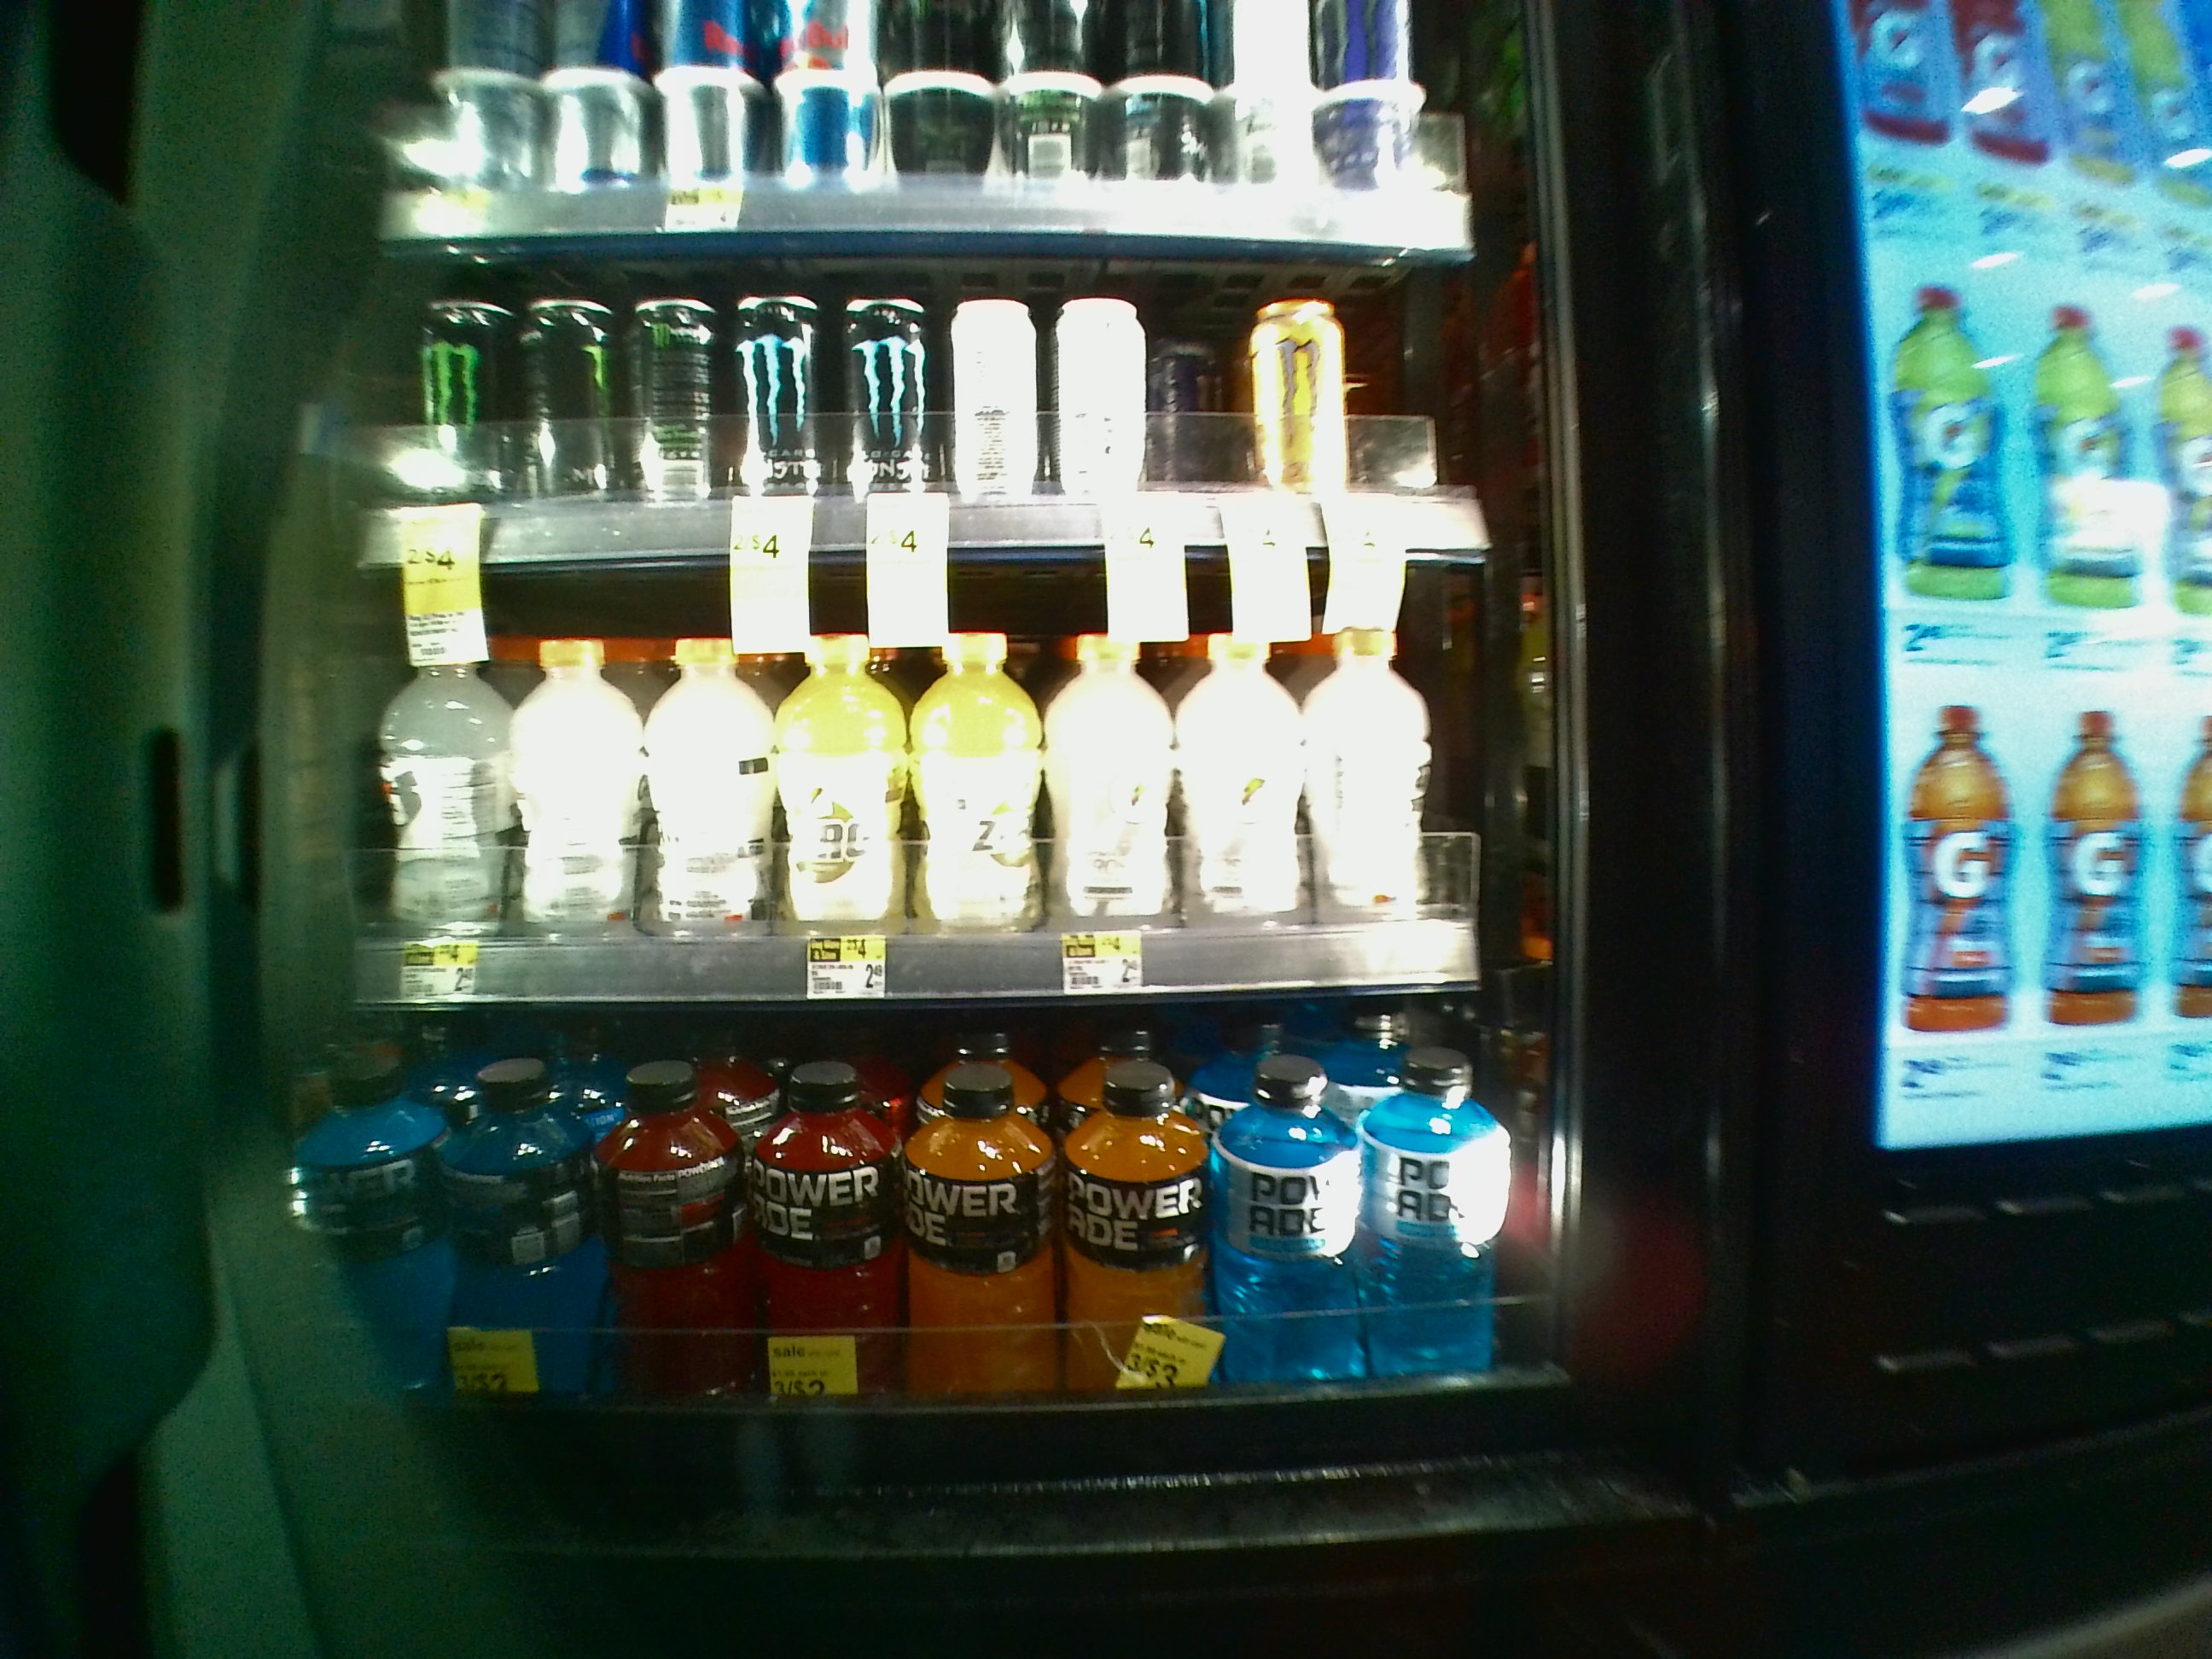shelf: (293, 1006, 1616, 1415), (326, 563, 1601, 985), (320, 207, 1592, 568)
